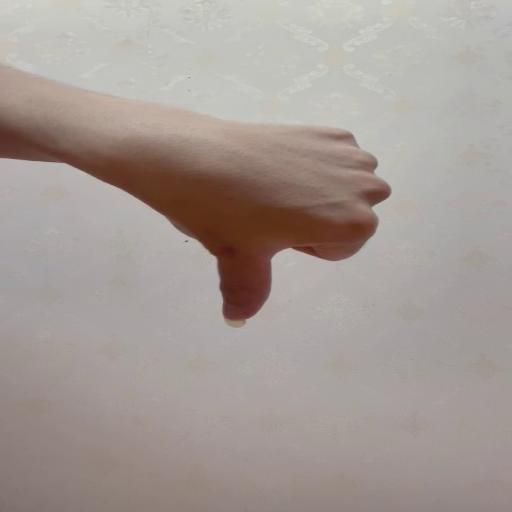thumbs_down: (91, 120, 391, 330)
